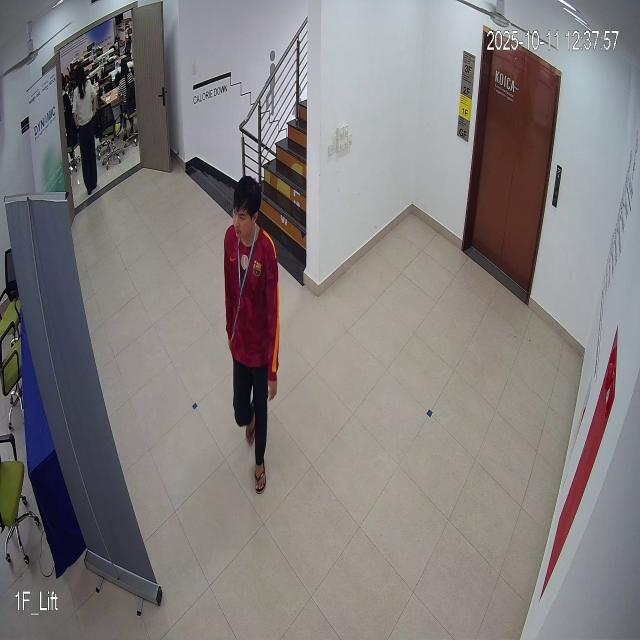face: (227, 174, 265, 251)
